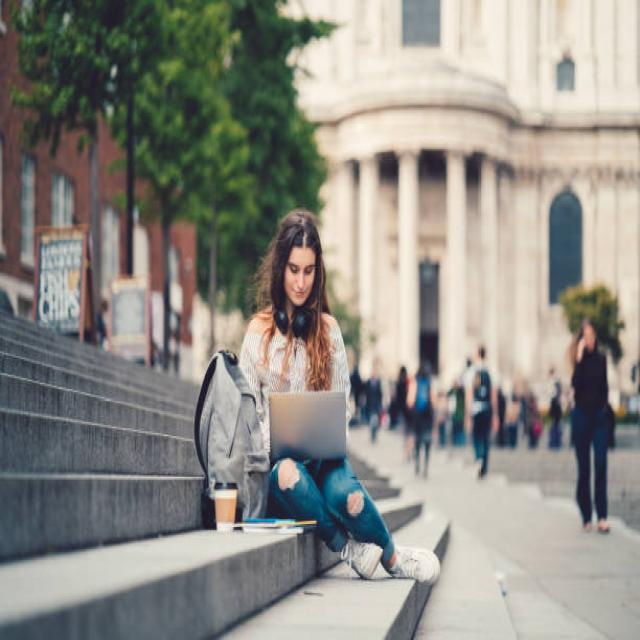Real human 2: (228, 176, 449, 598)
